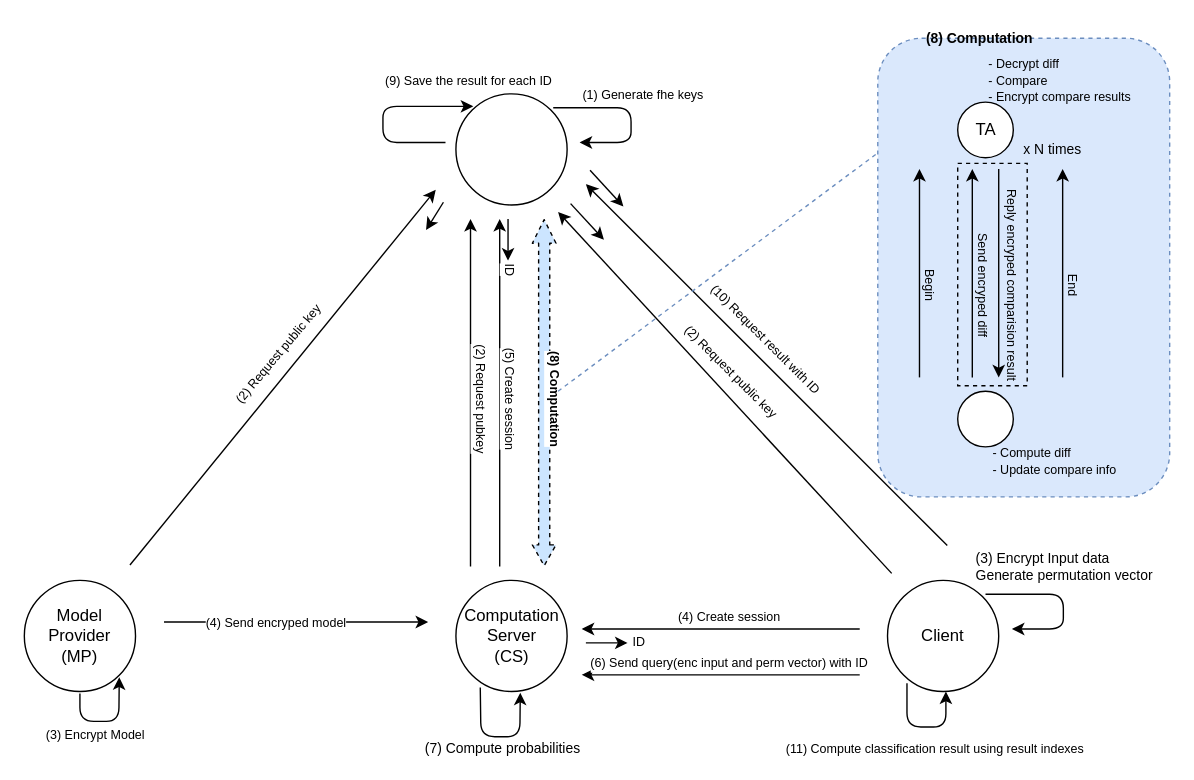
Image size: 1194x780. Some labels were removed from this diagram. Here are the shapes that lost their labels. From the top down, the box of each, then its label:
(455, 92, 567, 205): Trusted Authority (TA)
(956, 390, 1013, 447): CS
